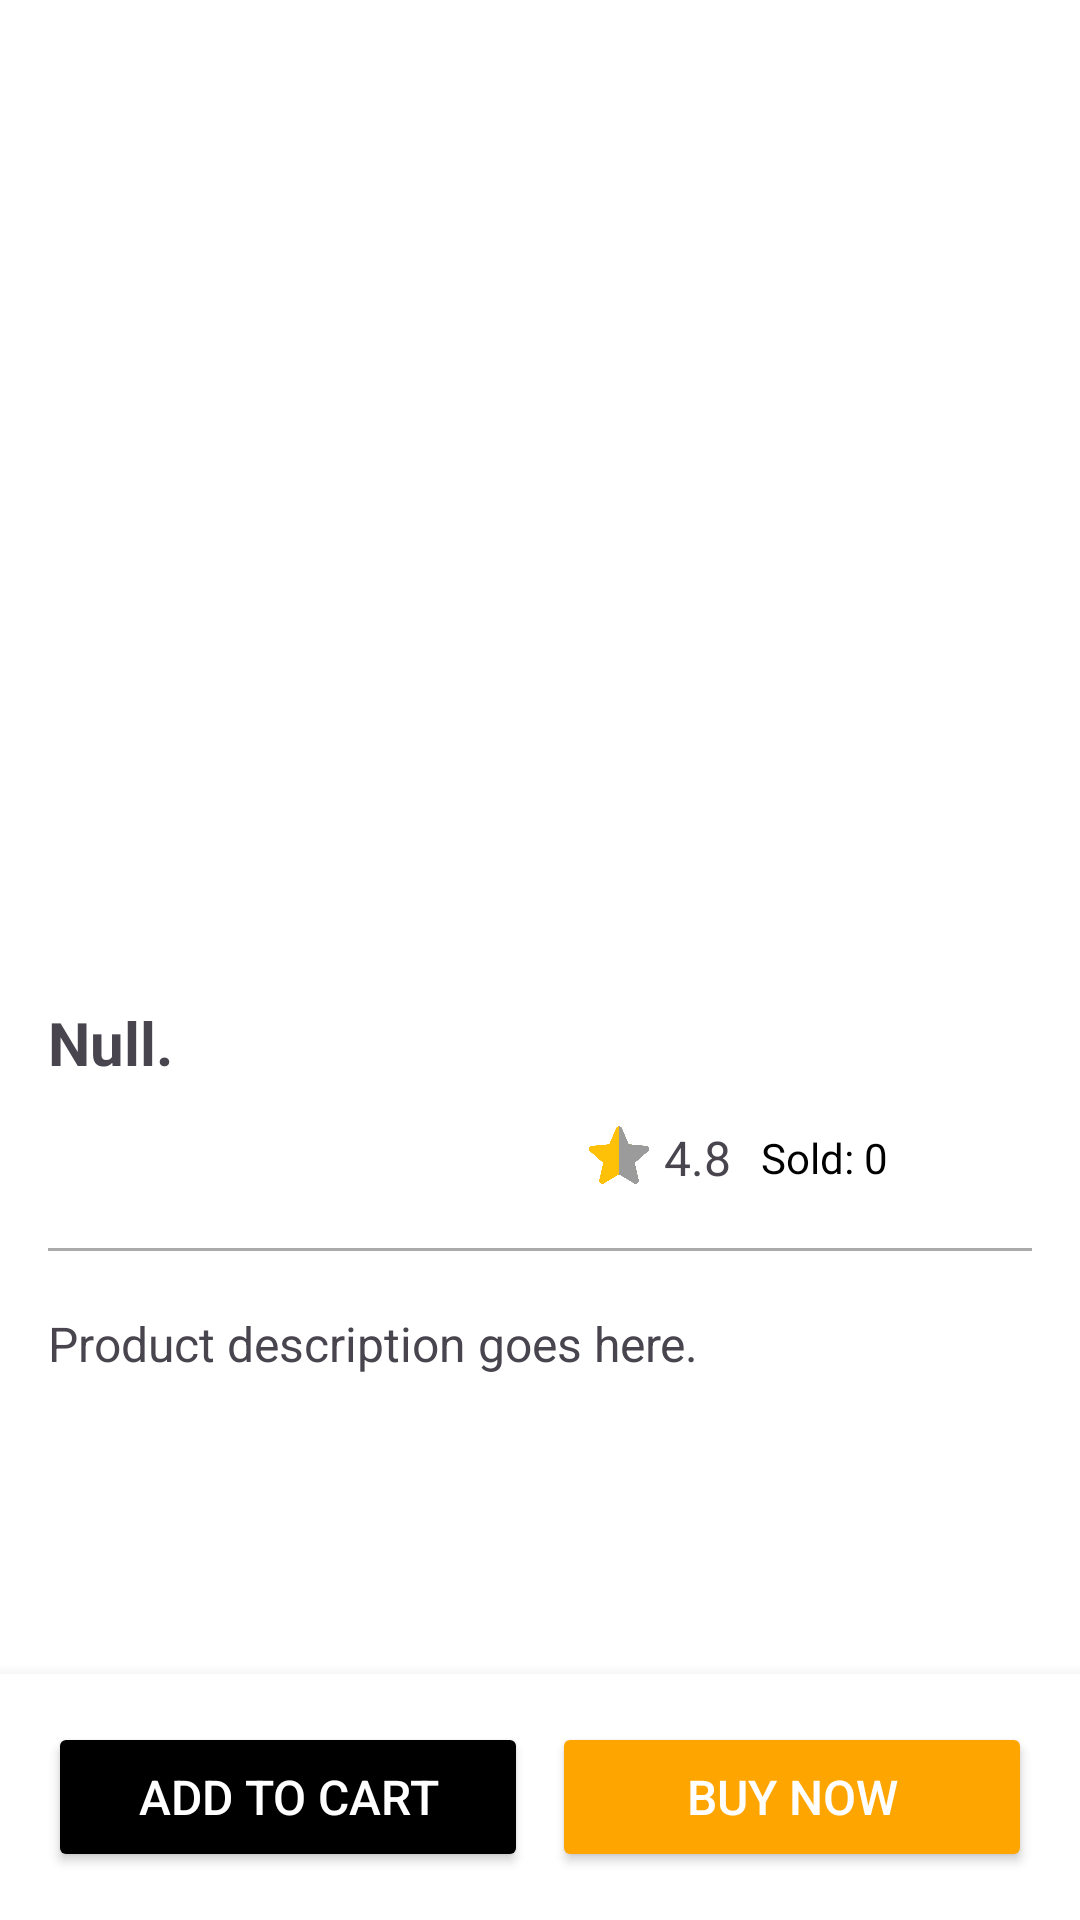

Screen size 1080 × 1920. Icon name, then its center in pixels as point (x, y):
star half: point (619, 1155)
